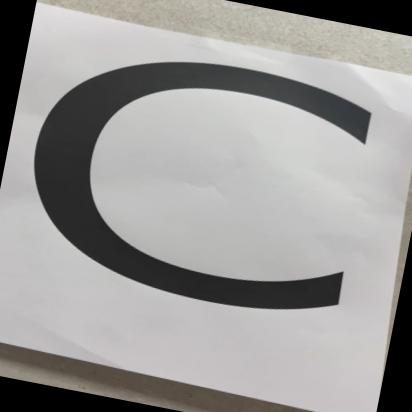seat: (0, 4, 412, 412)
